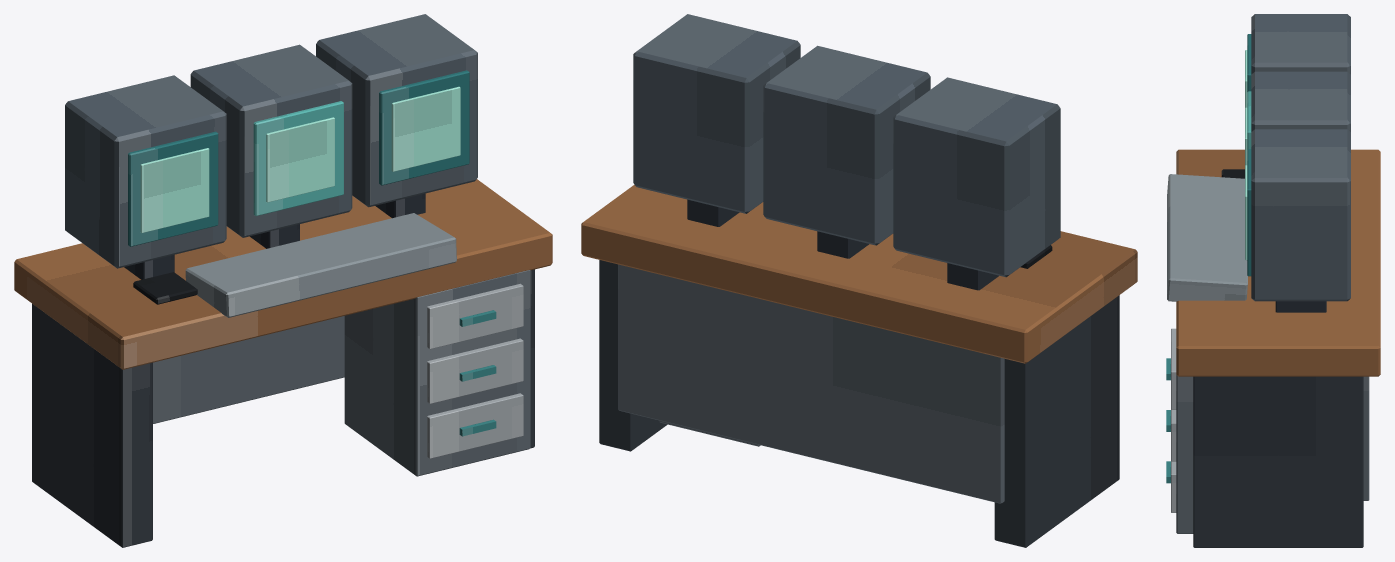
Rendered from office_crt_security_console.glb.
3 renders of one model, left to right at view 1: azimuth 30°, elevation 25°; view 2: azimuth 150°, elevation 25°; view 3: azimuth 270°, elevation 25°, orthographic. The views are drawn at different scales.
Parts seen in each view (by area): view 1: DeskTop, DeskLeg, DrawerPedestal, MonitorShell_0, ConsoleKeyboard, MonitorShell_1, MonitorShell_2, ModestyPanel, MonitorGlow_2, MonitorGlow_0, MonitorGlow_1, MonitorScreen_1 (+10 smaller); view 2: ModestyPanel, DeskTop, MonitorShell_0, MonitorShell_1, MonitorShell_2, DeskLeg, DeskLeg.001, MonitorStand_1, MonitorStand_2, MonitorStand_0; view 3: DeskLeg.001, DeskTop, MonitorShell_2, ConsoleKeyboard, MonitorShell_1, MonitorShell_0, DrawerPedestal, ModestyPanel, MonitorScreen_2, MonitorStand_2, Drawer_2, Drawer_1 (+4 smaller).
Boxes of the visible parts, left/top/right/bottom form: DeskTop: left=14, top=179, right=552, bottom=369; DeskLeg: left=32, top=303, right=152, bottom=547; DrawerPedestal: left=344, top=270, right=530, bottom=476; MonitorShell_0: left=65, top=75, right=226, bottom=268; ConsoleKeyboard: left=185, top=213, right=456, bottom=317; MonitorShell_1: left=190, top=44, right=352, bottom=237; MonitorShell_2: left=316, top=14, right=477, bottom=207; ModestyPanel: left=153, top=316, right=344, bottom=423; MonitorGlow_2: left=391, top=86, right=460, bottom=171; MonitorGlow_0: left=140, top=148, right=209, bottom=232; MonitorGlow_1: left=266, top=117, right=334, bottom=202; MonitorScreen_1: left=253, top=101, right=343, bottom=216; ModestyPanel: left=618, top=264, right=1004, bottom=503; DeskTop: left=581, top=185, right=1137, bottom=363; MonitorShell_0: left=893, top=77, right=1060, bottom=277; MonitorShell_1: left=763, top=45, right=930, bottom=245; MonitorShell_2: left=633, top=14, right=800, bottom=213; DeskLeg: left=994, top=295, right=1119, bottom=547; DeskLeg.001: left=599, top=260, right=667, bottom=451; MonitorStand_1: left=817, top=231, right=869, bottom=258; MonitorStand_2: left=687, top=199, right=739, bottom=226; MonitorStand_0: left=947, top=263, right=998, bottom=290; DeskLeg.001: left=1193, top=376, right=1363, bottom=547; DeskTop: left=1176, top=149, right=1380, bottom=376; MonitorShell_2: left=1251, top=129, right=1350, bottom=301; ConsoleKeyboard: left=1167, top=174, right=1247, bottom=301; MonitorShell_1: left=1251, top=71, right=1350, bottom=131; MonitorShell_0: left=1251, top=14, right=1350, bottom=74; DrawerPedestal: left=1176, top=375, right=1193, bottom=533; ModestyPanel: left=1363, top=376, right=1369, bottom=500; MonitorScreen_2: left=1247, top=149, right=1251, bottom=276; MonitorStand_2: left=1275, top=301, right=1326, bottom=312; Drawer_2: left=1171, top=328, right=1176, bottom=409; Drawer_1: left=1171, top=410, right=1176, bottom=461.
Size of the model in its own units: 1.65 by 1.39 by 0.755.
Materials: 2 (2 with a texture image).
